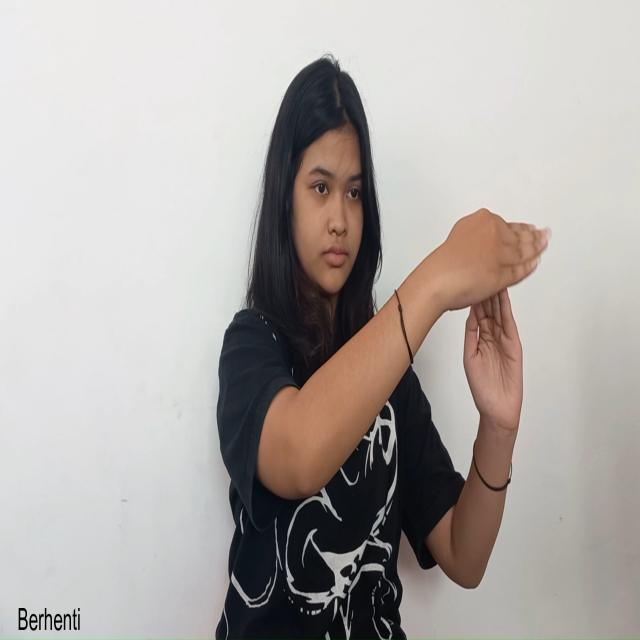Berhenti -BISINDO-: (439, 203, 553, 447)
